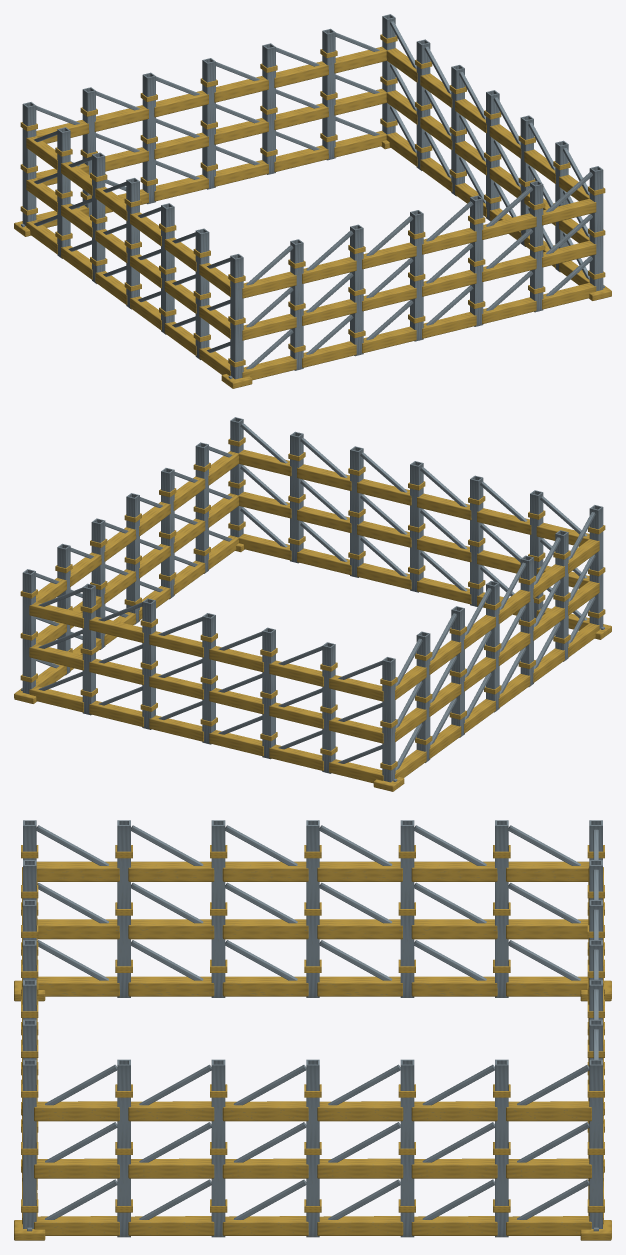
The picture shows the model from 3 angles, top to bottom: view 1: azimuth 30°, elevation 25°; view 2: azimuth 150°, elevation 25°; view 3: azimuth 270°, elevation 25°; orthographic projection. The views are drawn at different scales.
Parts seen in each view (by area): view 1: Tier 0 side 0 post 0, Tier 0 side 1 post 0, Tier 0 side 2 post 1, Tier 0 side 2 post 3, Tier 0 side 2 post 2, Tier 0 side 2 post 4, Tier 0 side 0 post 5, Tier 0 side 0 post 3, Tier 0 side 0 post 1, Tier 0 side 0 post 2, Tier 0 side 0 post 4, Tier 0 side 3 post 5 (+74 smaller); view 2: Tier 0 side 3 post 0, Tier 0 side 2 post 0, Tier 0 side 2 post 3, Tier 0 side 2 post 1, Tier 0 side 2 post 4, Tier 0 side 2 post 2, Tier 0 side 2 post 5, Tier 0 side 0 post 3, Tier 0 side 0 post 5, Tier 0 side 0 post 4, Tier 0 side 0 post 2, Tier 0 side 1 post 2 (+74 smaller); view 3: Tier 0 side 1 post 4, Tier 0 side 1 post 2, Tier 0 side 3 post 2, Tier 0 side 3 post 4, Tier 0 side 1 post 3, Tier 0 side 3 post 3, Tier 0 side 3 post 5, Tier 0 side 1 post 1, Tier 0 side 1 post 5, Tier 0 side 3 post 1, Tier 0 side 1 post 0, Tier 0 side 2 post 0 (+36 smaller).
Part boxes in pixels (<box>): Tier 0 side 0 post 0: <box>230,254,243,379</box>; Tier 0 side 1 post 0: <box>589,166,603,291</box>; Tier 0 side 2 post 1: <box>322,28,335,160</box>; Tier 0 side 2 post 3: <box>202,58,215,189</box>; Tier 0 side 2 post 2: <box>262,43,275,174</box>; Tier 0 side 2 post 4: <box>142,72,155,204</box>; Tier 0 side 0 post 5: <box>530,180,543,312</box>; Tier 0 side 0 post 3: <box>410,210,423,341</box>; Tier 0 side 0 post 1: <box>290,239,303,370</box>; Tier 0 side 0 post 2: <box>350,224,363,356</box>; Tier 0 side 0 post 4: <box>470,195,483,326</box>; Tier 0 side 3 post 5: <box>195,228,209,359</box>; Tier 0 side 3 post 0: <box>382,657,395,782</box>; Tier 0 side 2 post 0: <box>22,569,35,693</box>; Tier 0 side 2 post 3: <box>202,613,215,744</box>; Tier 0 side 2 post 1: <box>82,583,95,715</box>; Tier 0 side 2 post 4: <box>262,627,275,759</box>; Tier 0 side 2 post 2: <box>142,598,155,729</box>; Tier 0 side 2 post 5: <box>322,642,335,773</box>; Tier 0 side 0 post 3: <box>410,461,423,592</box>; Tier 0 side 0 post 5: <box>290,431,303,563</box>; Tier 0 side 0 post 4: <box>350,446,363,577</box>; Tier 0 side 0 post 2: <box>470,475,483,606</box>; Tier 0 side 1 post 2: <box>161,468,174,599</box>; Tier 0 side 1 post 4: <box>400,1059,414,1237</box>; Tier 0 side 1 post 2: <box>211,1059,225,1237</box>; Tier 0 side 3 post 2: <box>400,820,414,997</box>; Tier 0 side 3 post 4: <box>211,820,225,997</box>; Tier 0 side 1 post 3: <box>306,1059,319,1237</box>; Tier 0 side 3 post 3: <box>306,820,319,997</box>; Tier 0 side 3 post 5: <box>117,820,130,997</box>; Tier 0 side 1 post 1: <box>117,1059,130,1237</box>; Tier 0 side 1 post 5: <box>495,1059,508,1237</box>; Tier 0 side 3 post 1: <box>495,820,508,997</box>; Tier 0 side 1 post 0: <box>23,1059,36,1228</box>; Tier 0 side 2 post 0: <box>589,1059,602,1228</box>.
Size of the model in its own units: 2.85 by 0.9051 by 2.85.
2 materials, 2 textured.
